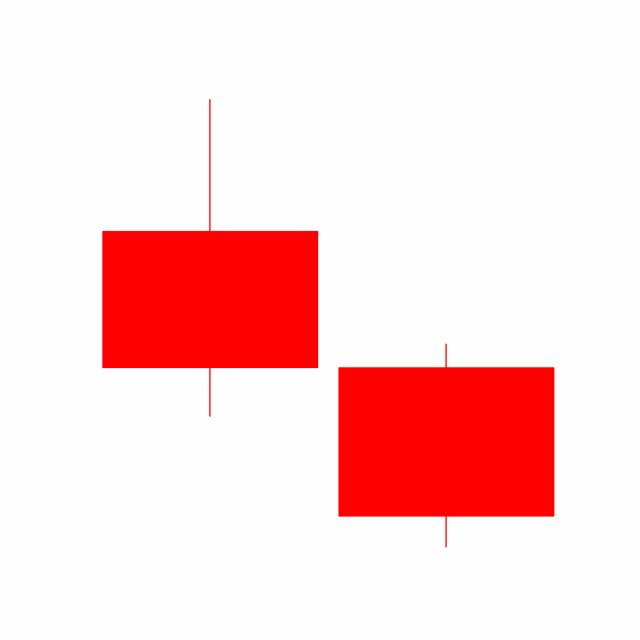Marubozu: (327, 340, 565, 549)
